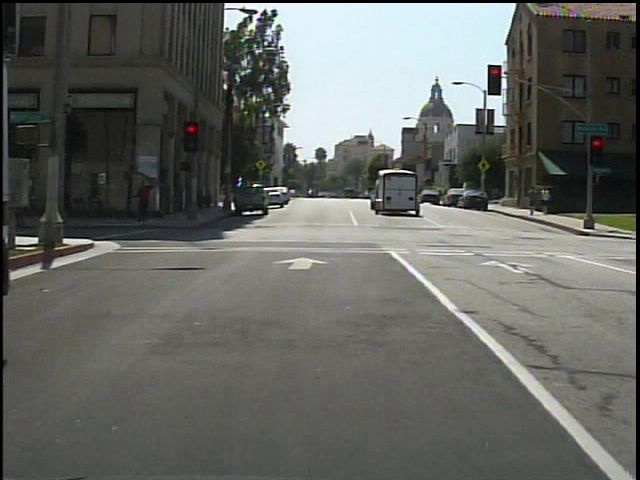person: (134, 175, 160, 223), (526, 184, 540, 218), (539, 186, 554, 217)
